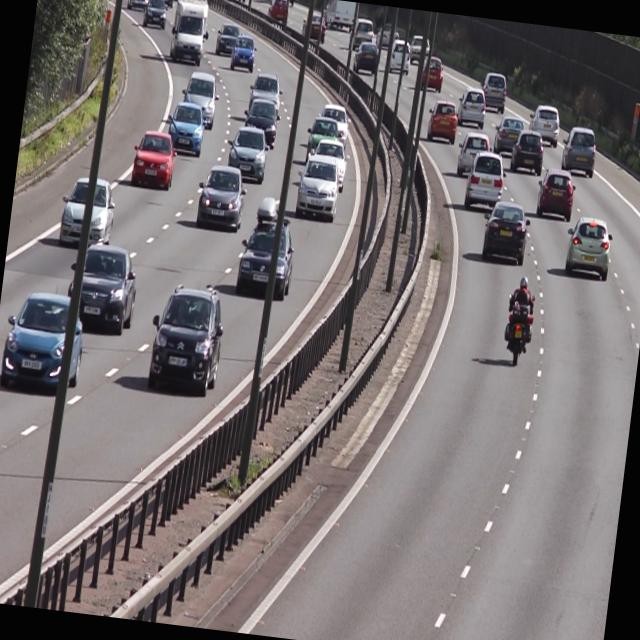Vehicle: (146, 280, 227, 396), (0, 289, 85, 397), (61, 240, 138, 337), (235, 190, 302, 300), (54, 172, 118, 252), (560, 211, 620, 283), (194, 162, 248, 234), (476, 198, 533, 266), (292, 152, 342, 222), (128, 126, 179, 194), (223, 122, 270, 187), (165, 0, 210, 67), (462, 150, 507, 216), (531, 165, 579, 225), (161, 99, 208, 160), (177, 68, 220, 132), (556, 122, 598, 178), (240, 94, 282, 150), (422, 94, 462, 150), (452, 124, 491, 180), (525, 98, 564, 150), (506, 126, 546, 176), (476, 70, 511, 114), (490, 116, 526, 156), (456, 88, 488, 132), (226, 32, 257, 75), (416, 54, 444, 92), (351, 40, 380, 73), (141, 0, 167, 29)
